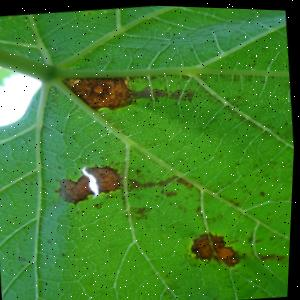Folha: (0, 0, 300, 300)
Fungo: (59, 62, 195, 116), (51, 159, 128, 207), (188, 225, 244, 268), (82, 160, 126, 195), (242, 242, 292, 272), (176, 171, 196, 186)
